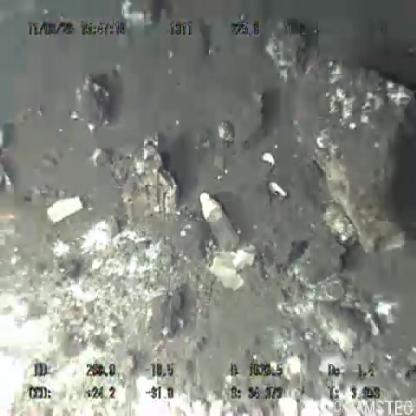Rác: (196, 185, 243, 262)
